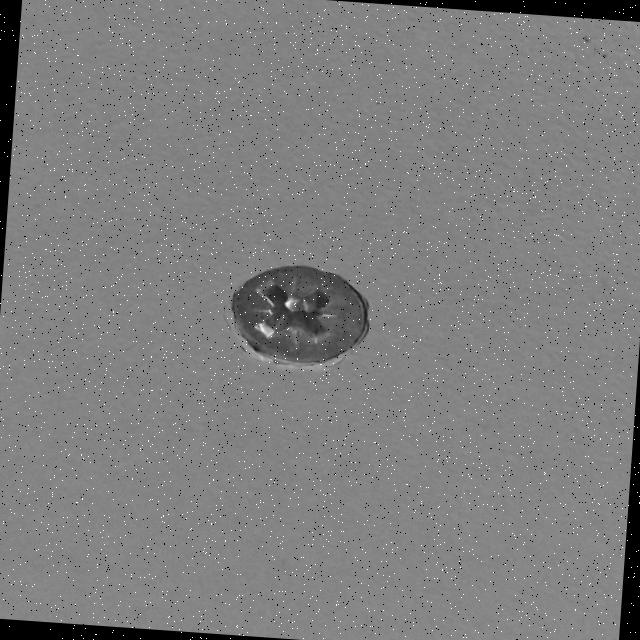Pozidriv: (220, 253, 387, 379)
